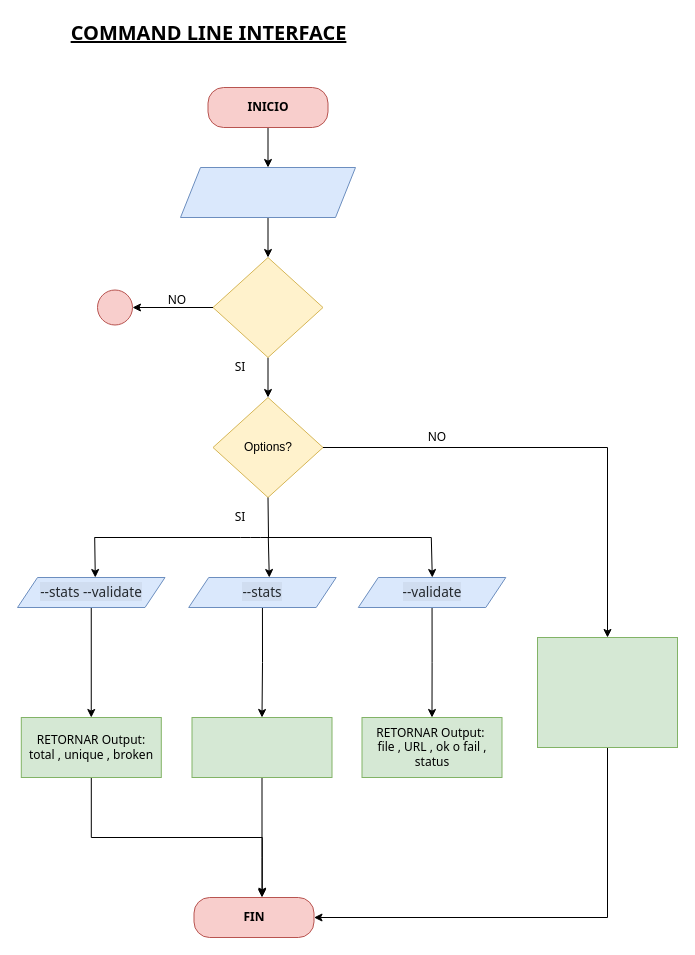
Some shapes in this 695 by 955 pixel diagram are drawn without their labels. Here are the shapes that lost their labels. From the top down, the centre of each, then its label:
At pixel 268 192: "md-links <path-to-file> [options]".
At pixel 267 307: "Archivo MD?".
At pixel 607 692: "IMPRIMIR Links Ruta del archivo Texto dentro del link- truncado".
At pixel 261 747: "RETORNAR Output: total , unique".
